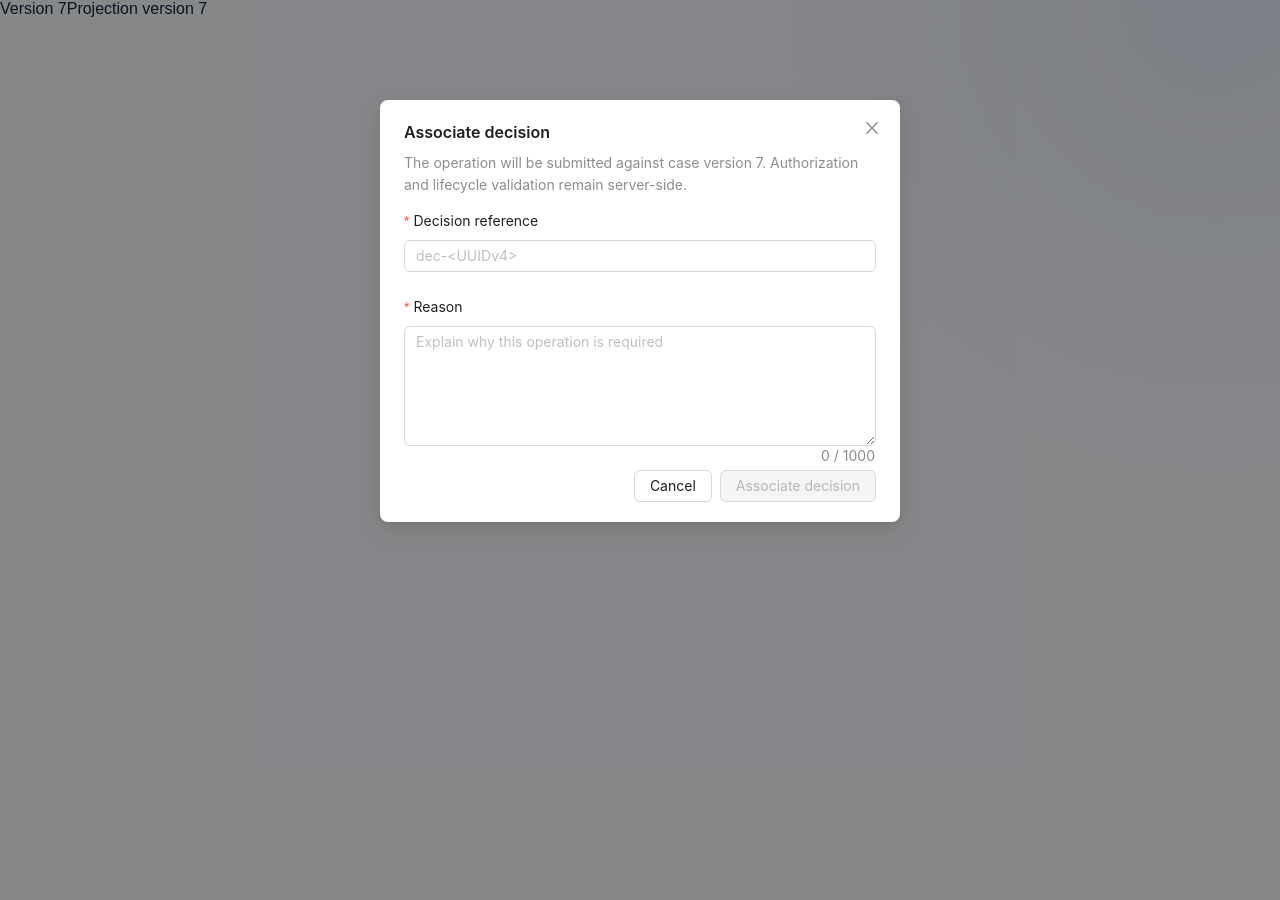
Q-018 association action registry and runner › associateDecision surfaces an ordinary backend ResultCode
Type "dec-18000000-0000-4000-8000-000000000001" into the field labelled "Decision reference". click: (640, 256)
box: [404, 240, 876, 272]
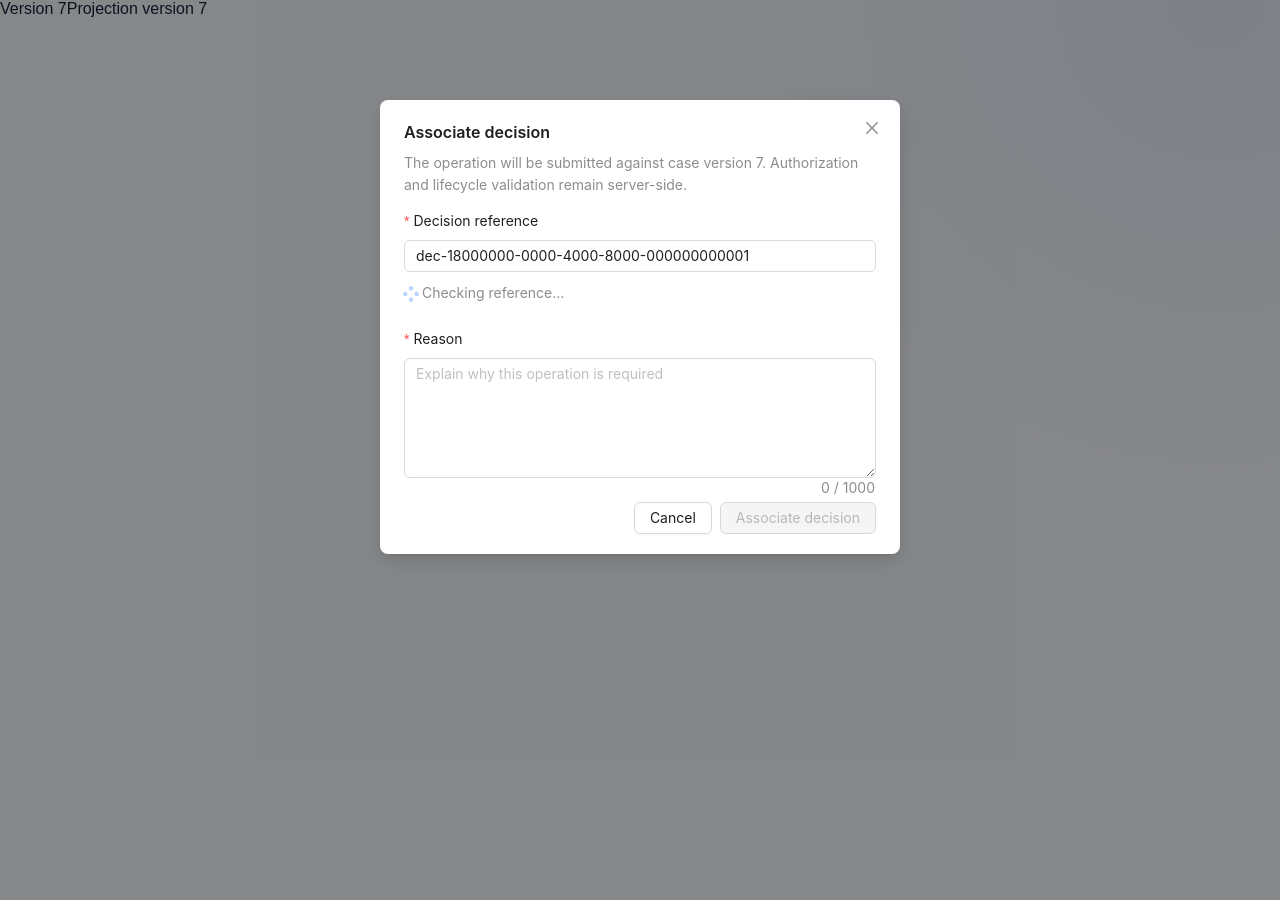
Type "Attach reviewed decision." into the text box labelled "Reason". click: (640, 418)
box: [405, 359, 875, 477]
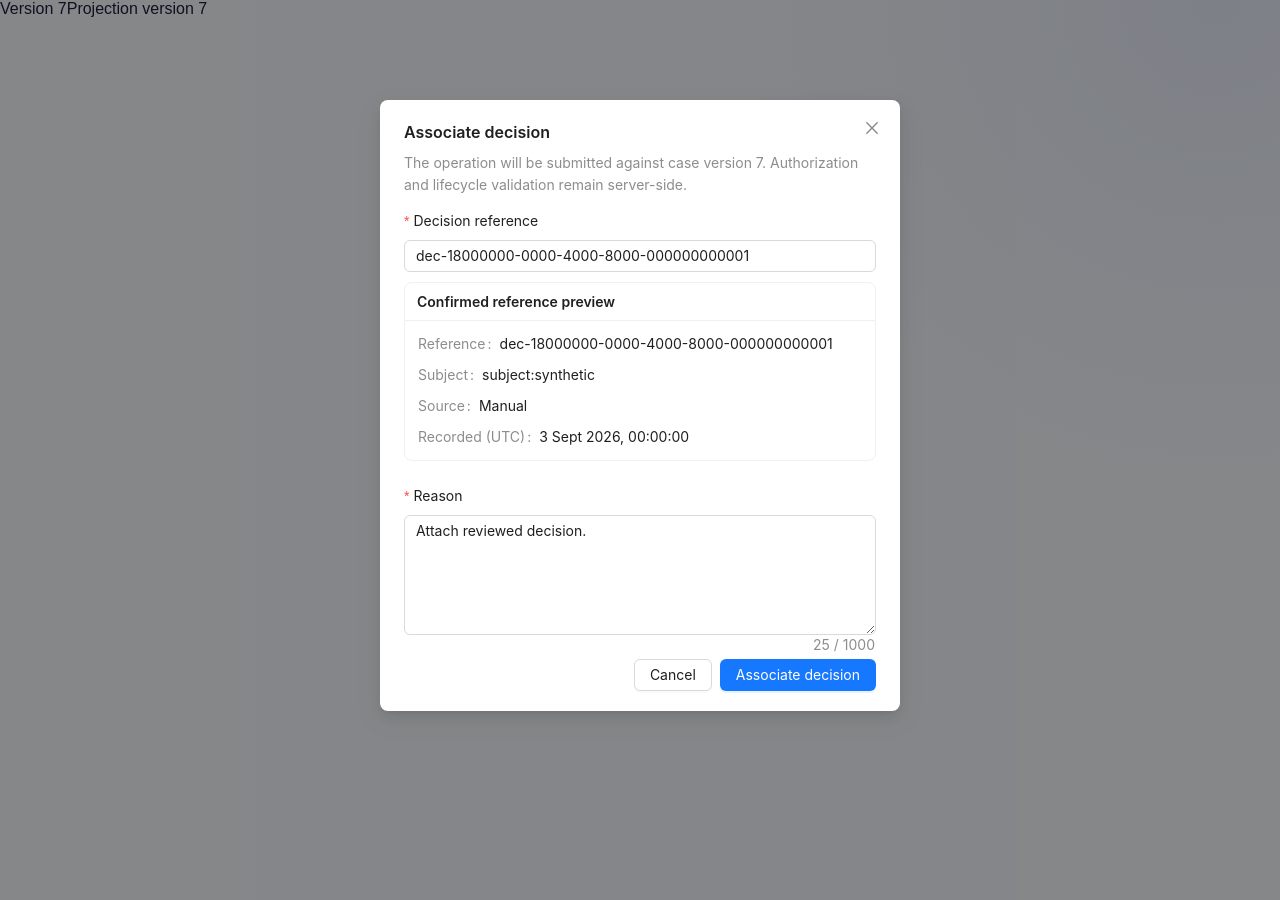
Check: the text "Confirmed reference preview" is shown, box [417, 292, 615, 310]
Click the button "Associate decision". click: (798, 675)
box: [720, 659, 876, 691]
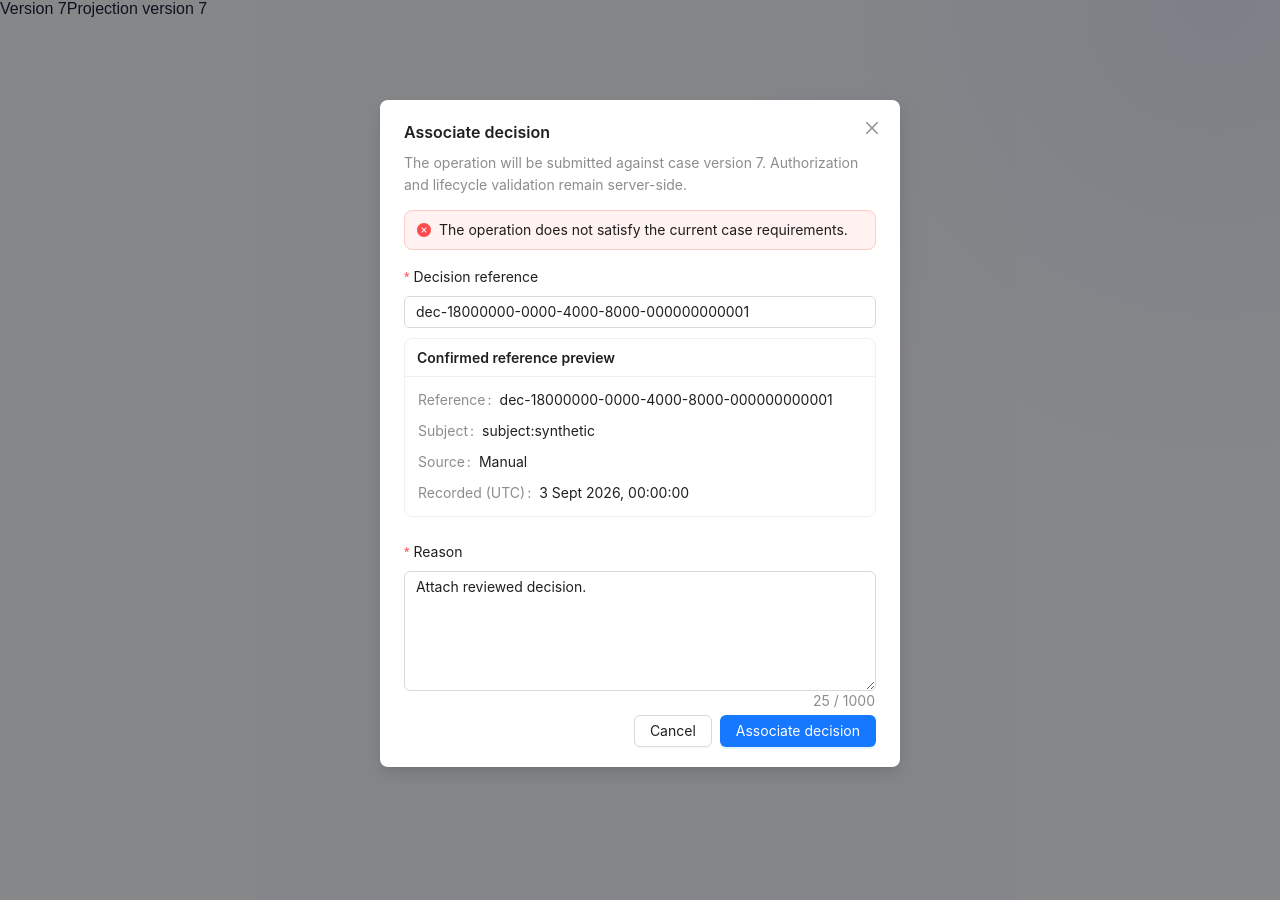
Check: the text "The operation does not satisfy the current case requirements." is shown, box [439, 219, 863, 241]
